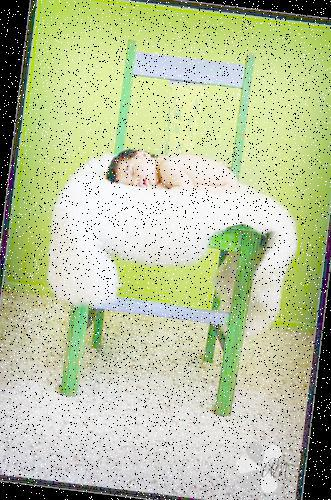Silla: (60, 38, 281, 414)
